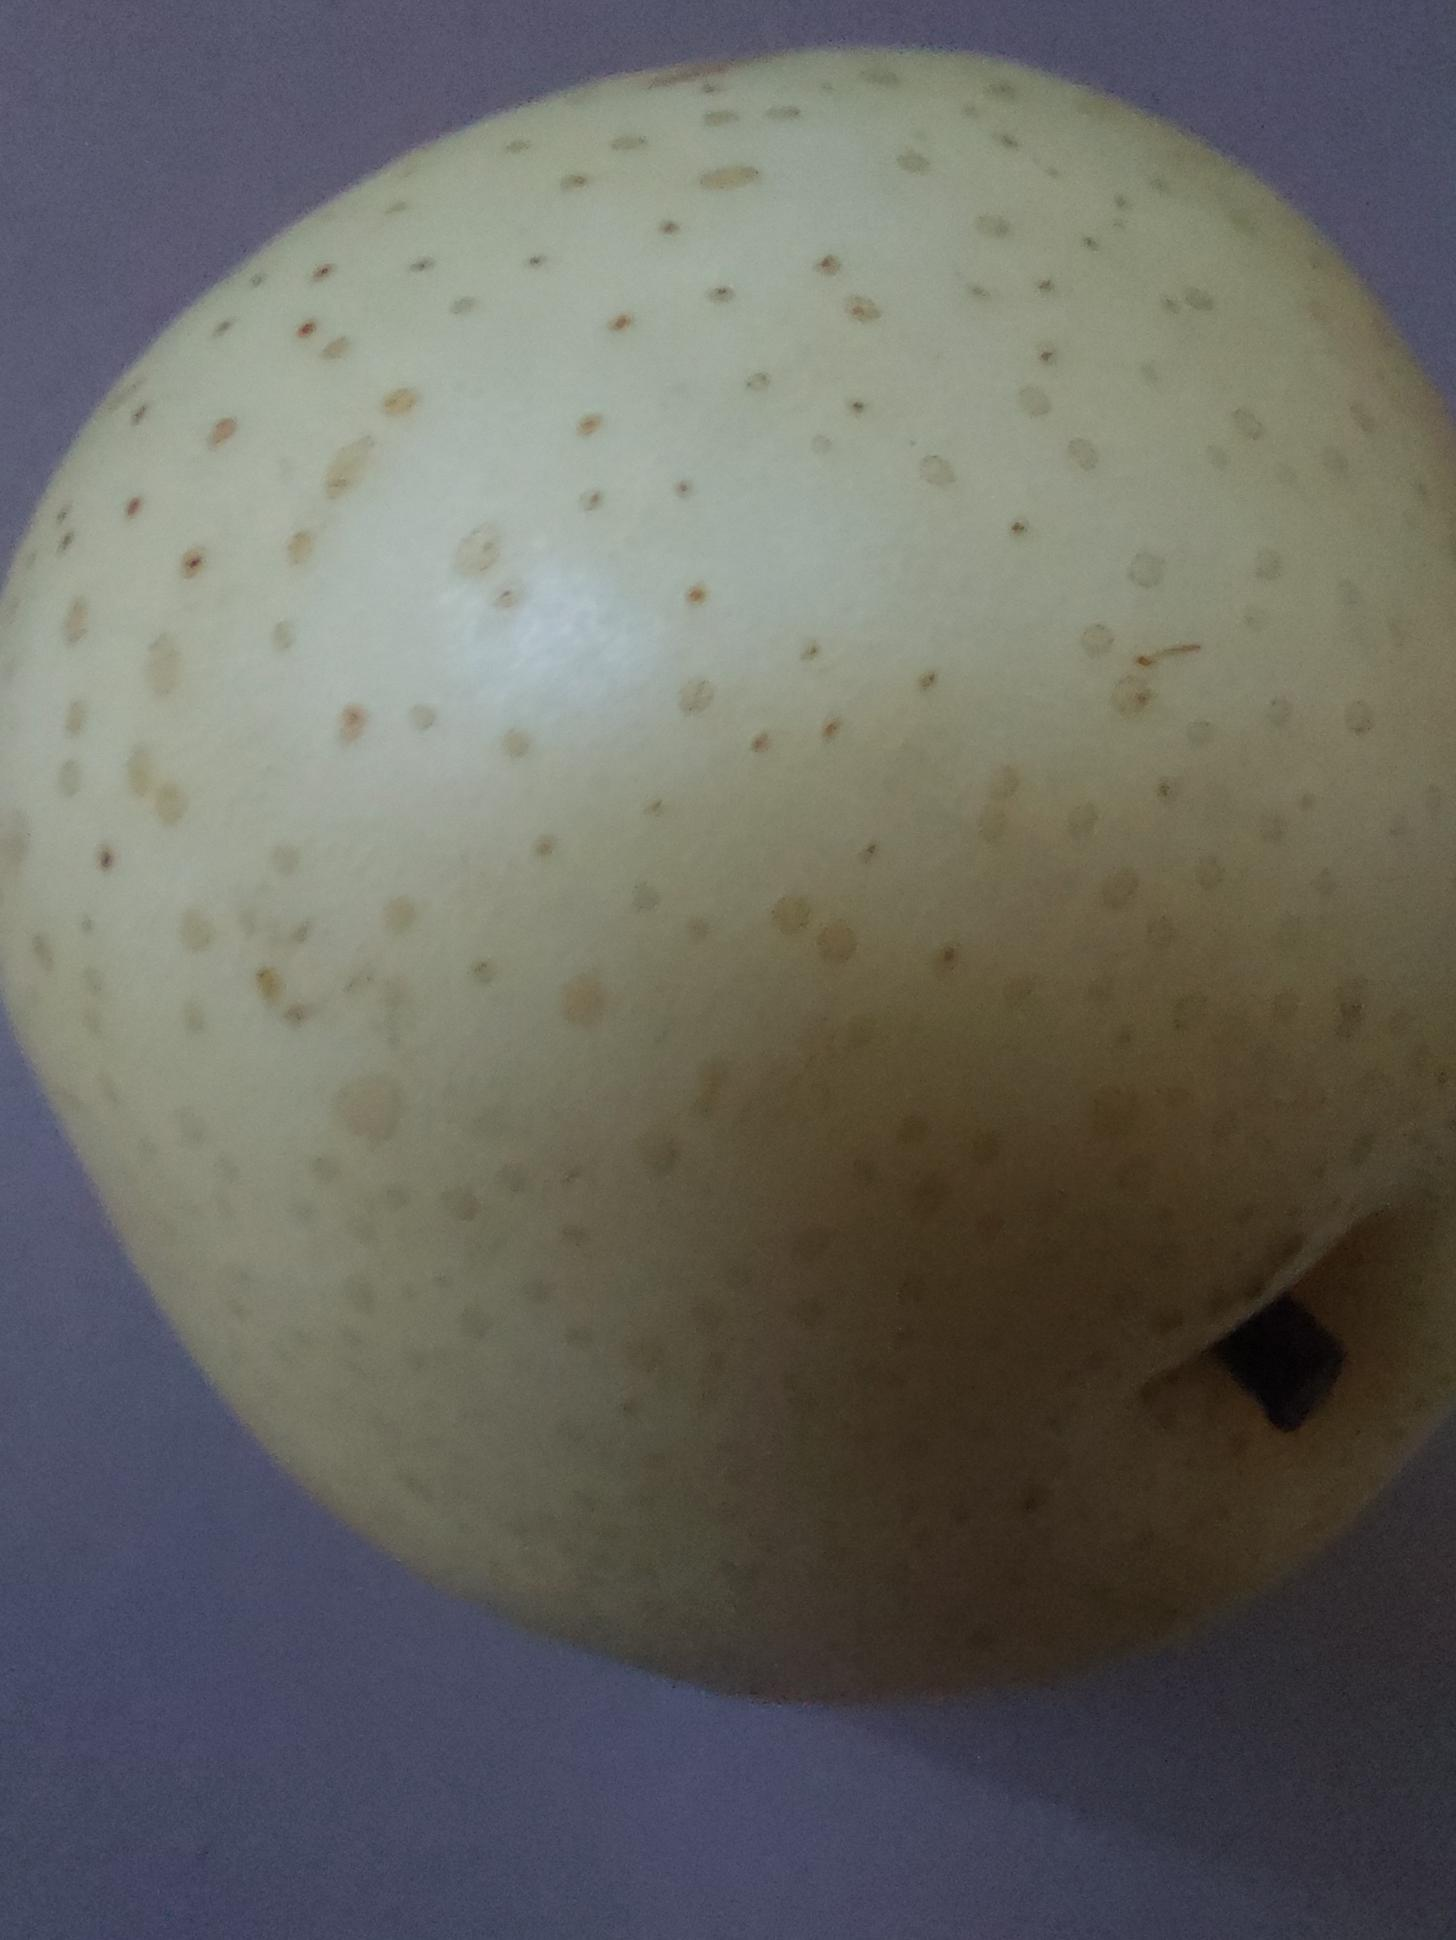Good Pear: (0, 15, 1456, 1753)
